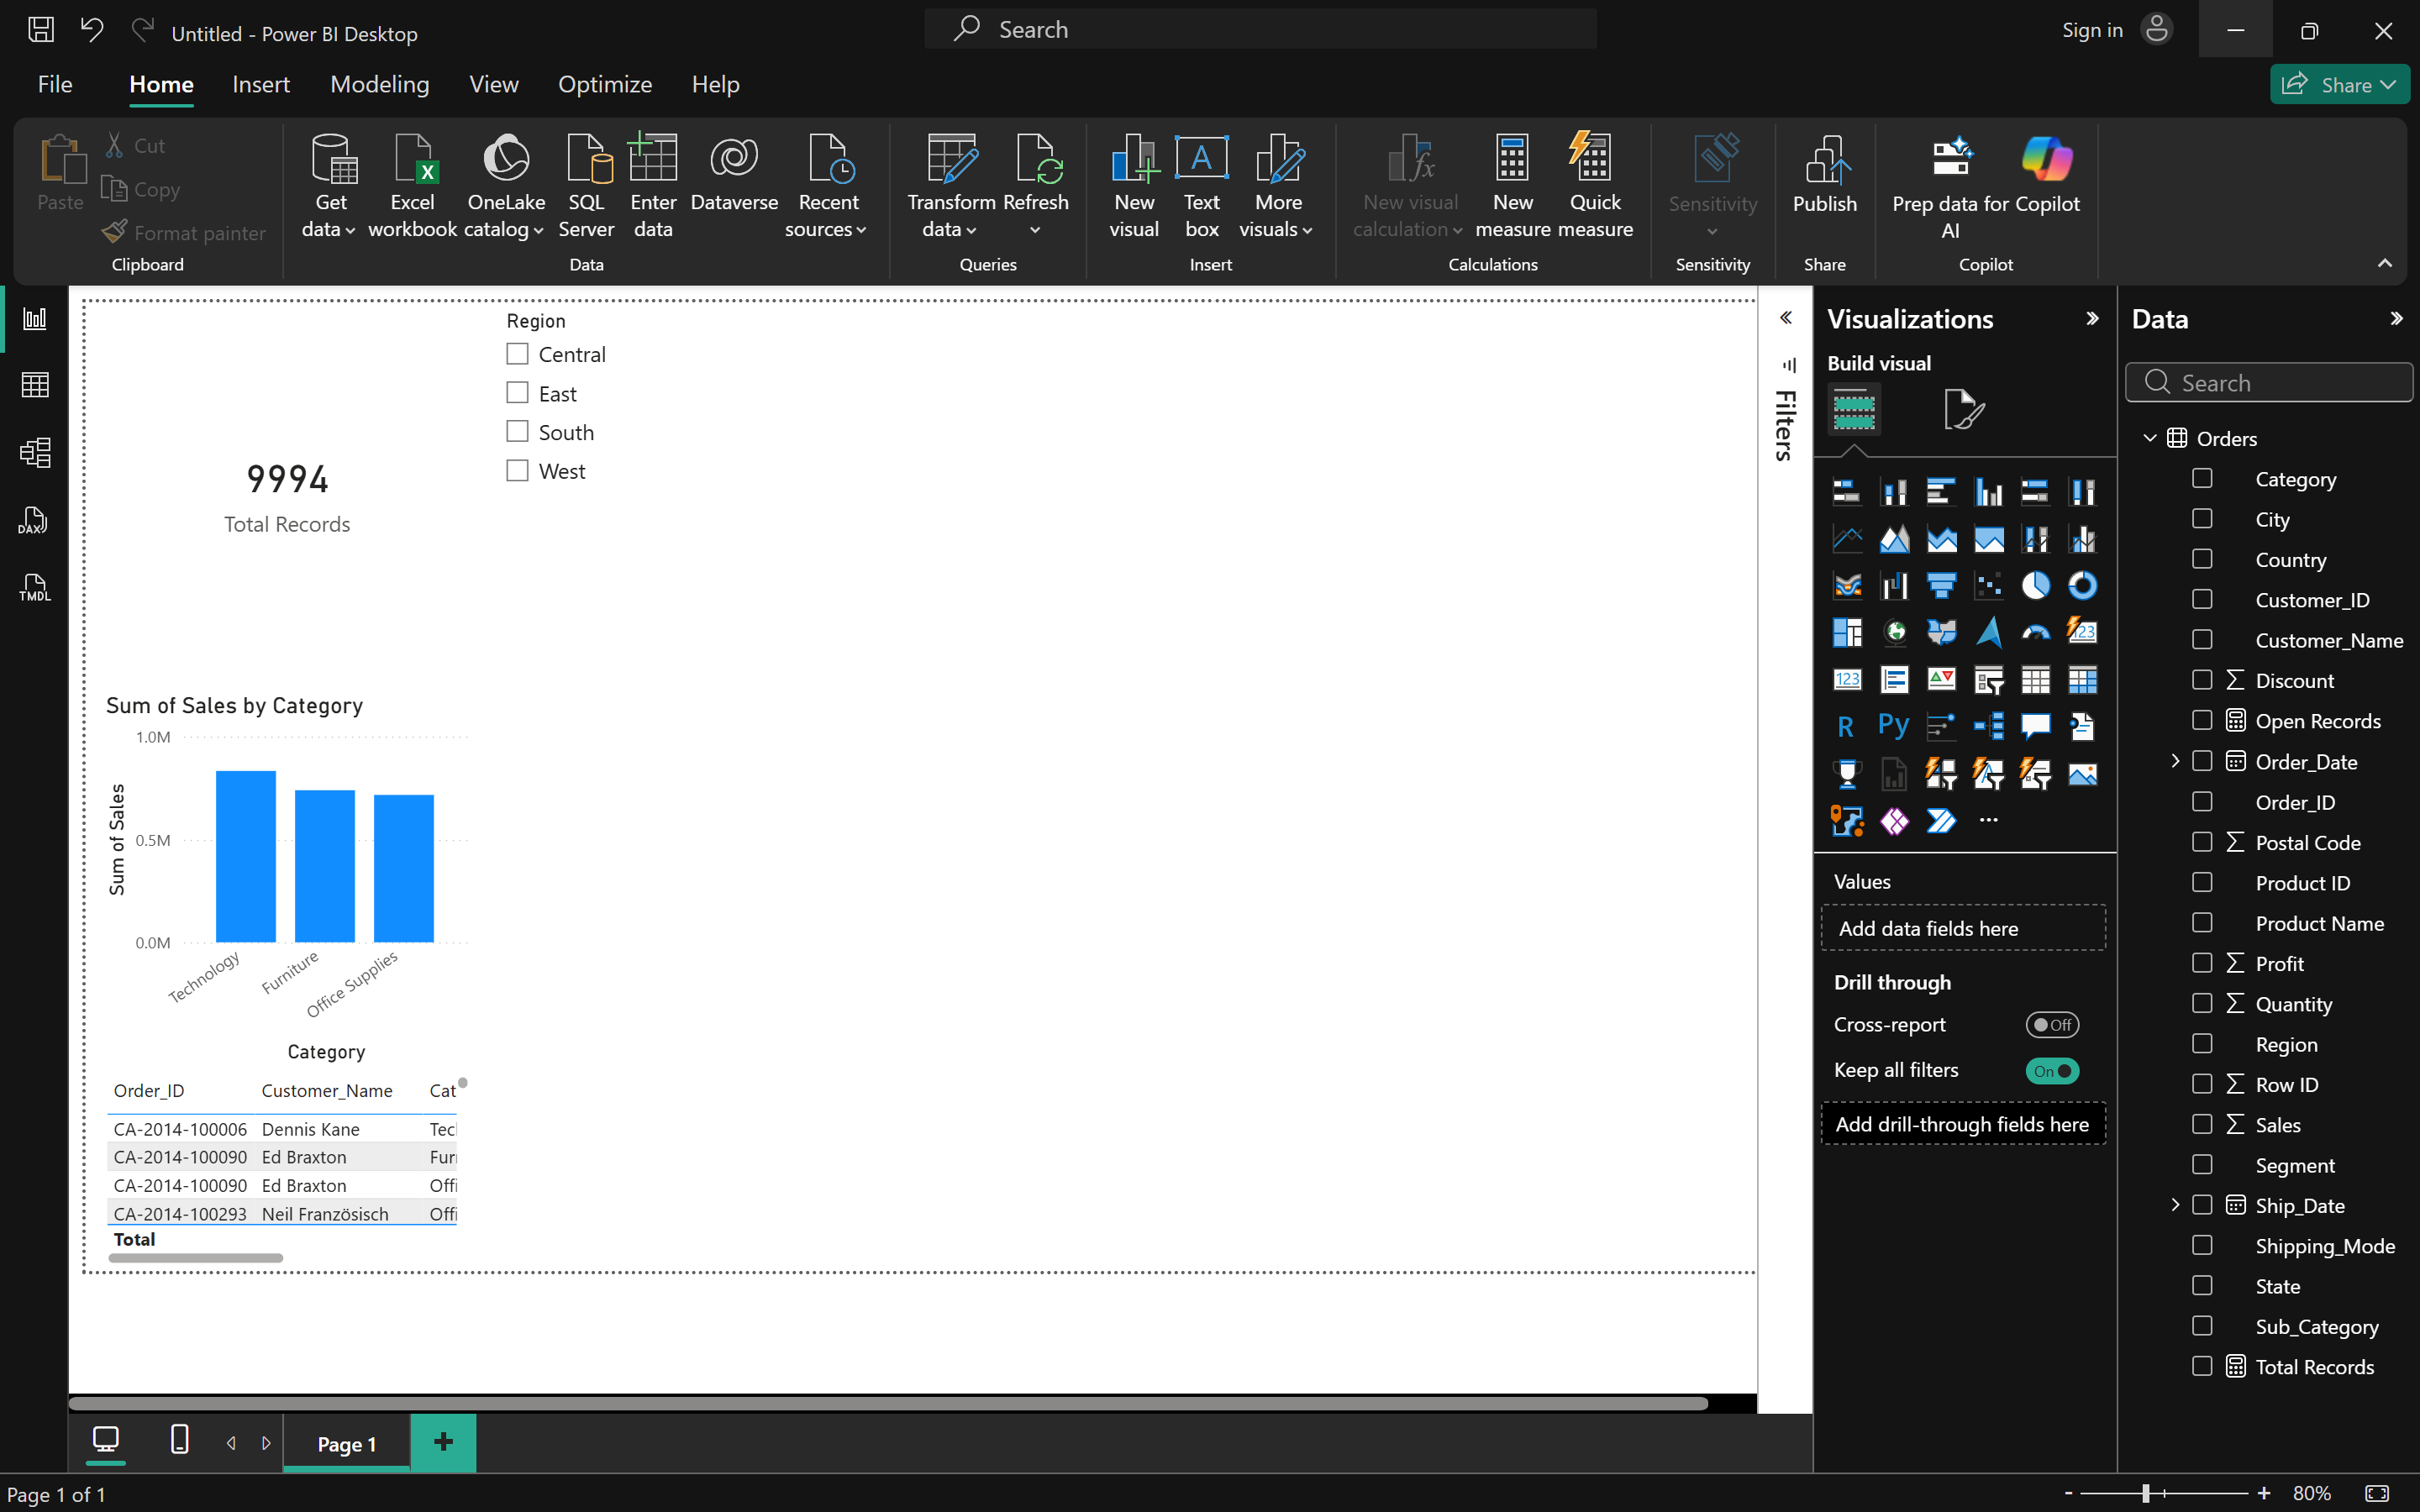

Layout of this report page (visuals, bound fields, positions):
{"tool":"powerbi","page":{"name":"Page 1","canvas":[1280,720],"ordinal":0},"visuals":[{"type":"card","fields":{"Values":["Orders.Total Records"]},"box":[10,0,280,280],"z":0},{"type":"clusteredColumnChart","fields":{"Category":["Orders.Category"],"Y":["Sum(Orders.Sales)"]},"box":[10,290,280,280],"z":1},{"type":"tableEx","fields":{"Values":["Orders.Order_ID","Orders.Customer_Name","Orders.Category","Sum(Orders.Sales)","Sum(Orders.Profit)"]},"box":[10,570,280,150],"z":2},{"type":"slicer","fields":{"Values":["Orders.Region"]},"box":[300,0,280,280],"z":3}]}

Visuals, with their boxes on the page's 1280x720 design canvas (x1, y1, x2, y2). These are canvas units, not pixel positions in the 2420x1512 screenshot, which may show the page scaled, cropped or inside an application window:
card - Orders.Total Records: BBox(10, 0, 290, 280)
clusteredColumnChart - Orders.Category x Sum(Orders.Sales): BBox(10, 290, 290, 570)
tableEx - Orders.Order_ID x Orders.Customer_Name: BBox(10, 570, 290, 720)
slicer - Orders.Region: BBox(300, 0, 580, 280)
